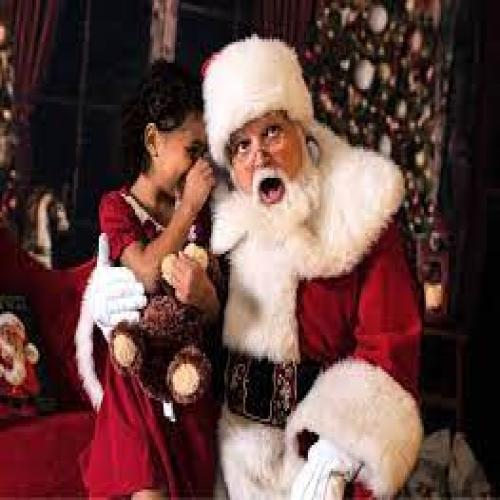Santa: (202, 35, 425, 500)
